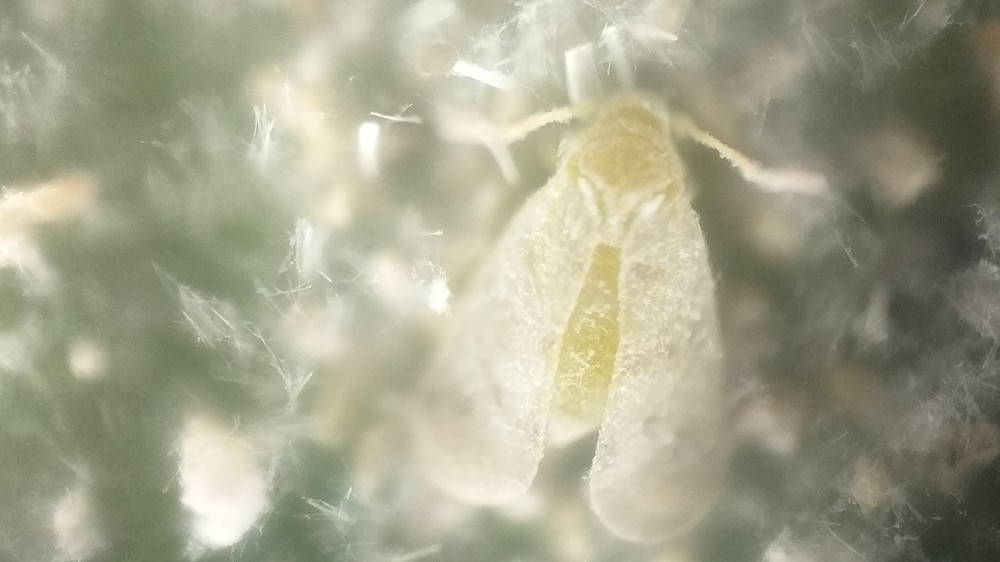Mosca Blanca: (388, 82, 866, 546)
